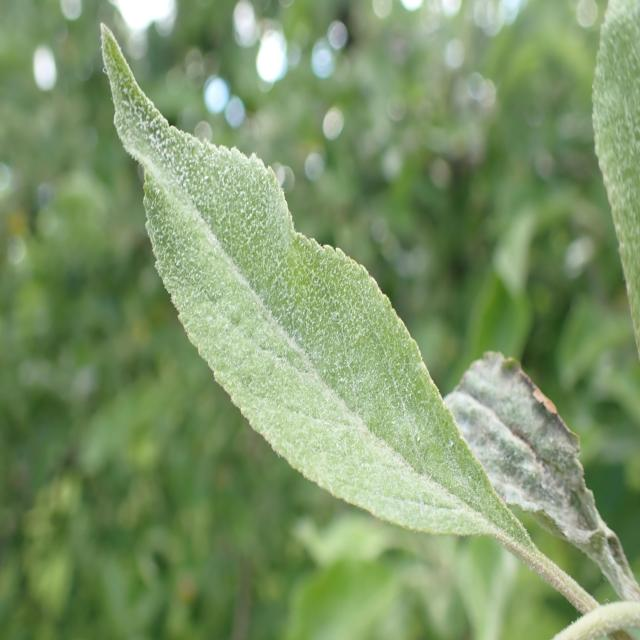Powdery_mildew: (83, 27, 514, 546), (432, 319, 624, 596)
